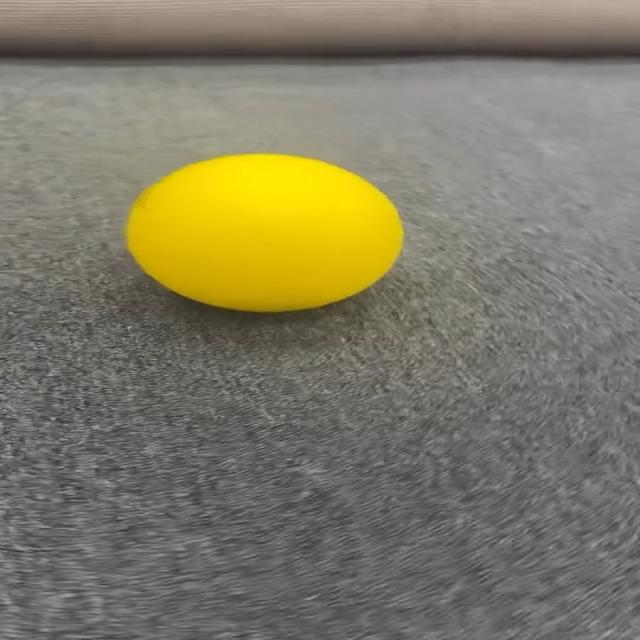Fuels: (128, 154, 400, 310)
